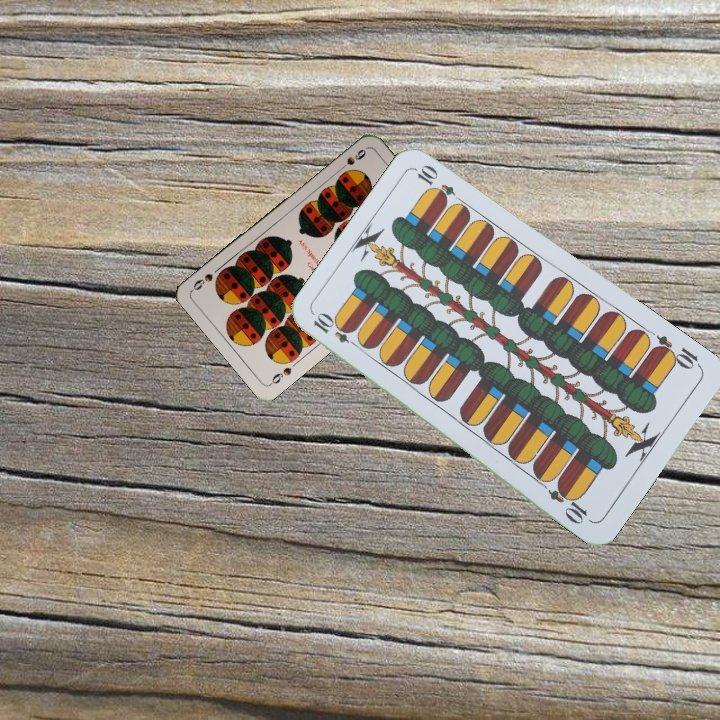E10: (648, 331, 704, 373), (309, 310, 364, 351)
S9: (334, 145, 369, 175), (266, 363, 294, 388)
